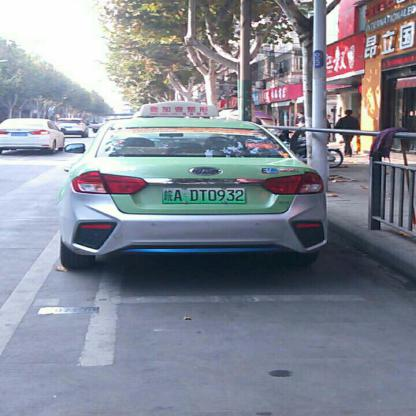lp: (162, 188, 244, 202)
